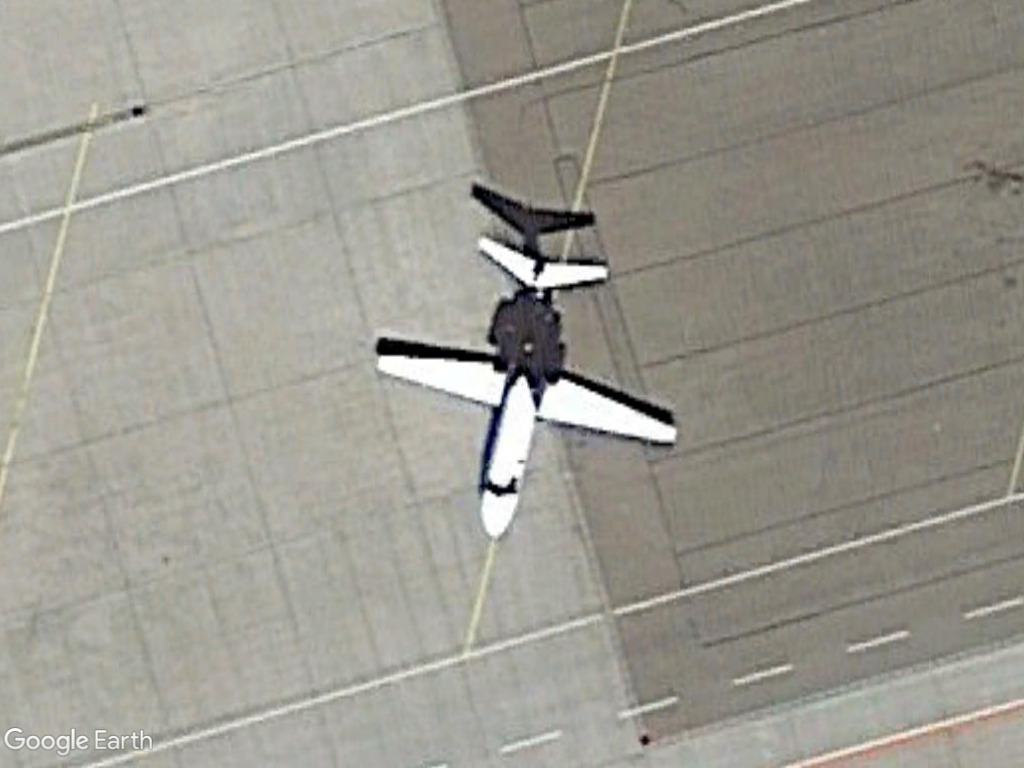chartered: (369, 232, 685, 544)
